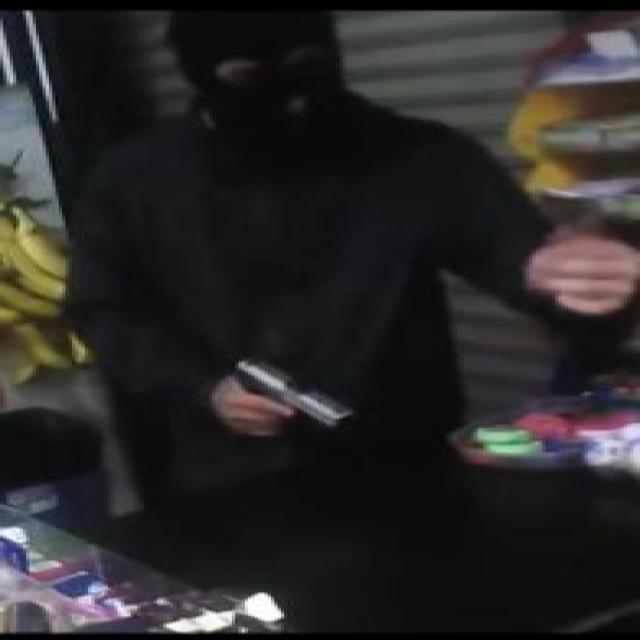Gun: (228, 354, 362, 434)
